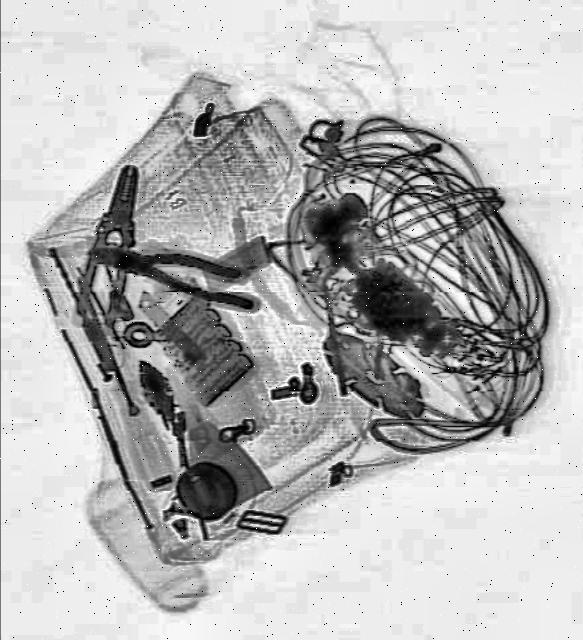Pliers: (83, 231, 260, 309), (70, 159, 146, 331)
